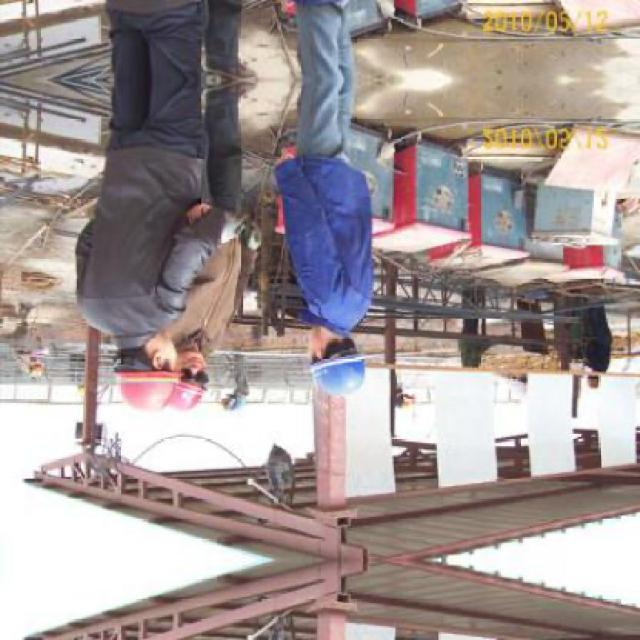con casco: (74, 326, 206, 403), (154, 343, 226, 428)
